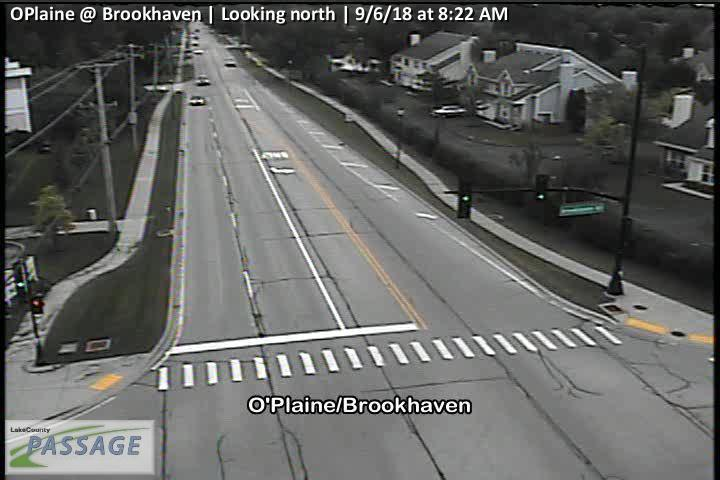Sedan: (190, 96, 205, 105), (224, 56, 236, 66), (197, 75, 208, 85)
